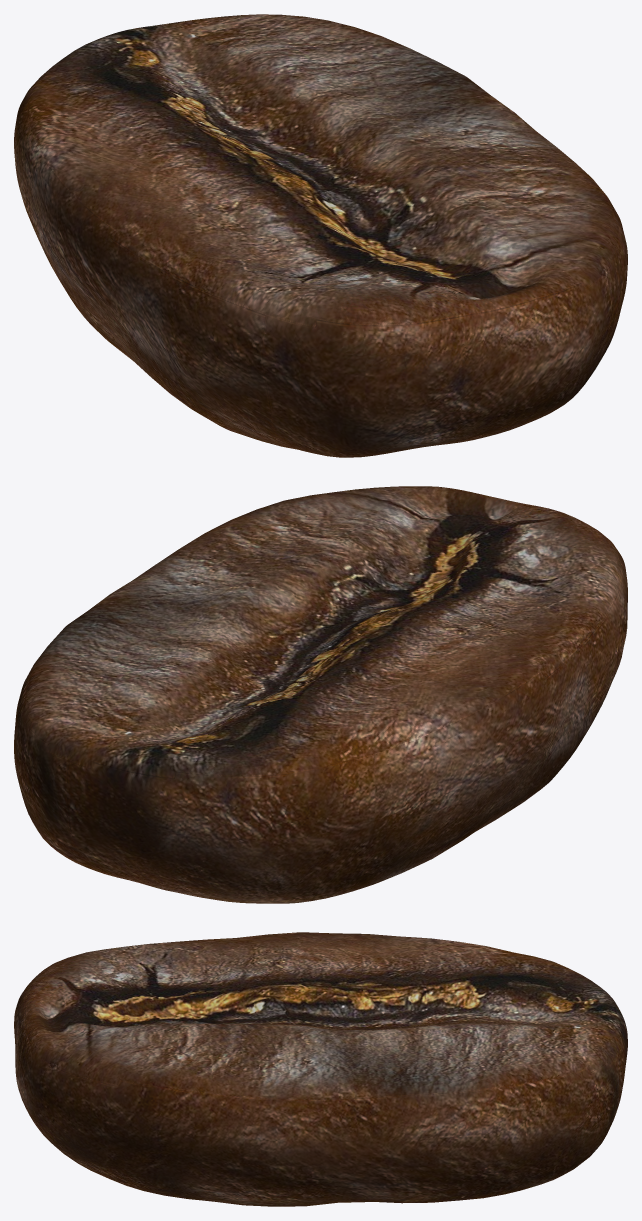
Rendered from cafe-v1.glb.
The picture shows the model from 3 angles, top to bottom: view 1: azimuth 30°, elevation 25°; view 2: azimuth 150°, elevation 25°; view 3: azimuth 270°, elevation 25°; orthographic projection. The views are drawn at different scales.
Visible parts, largest first — view 1: 3.Bean; view 2: 3.Bean; view 3: 3.Bean.
Part boxes in pixels (box(x1,y1,x2,y2)): 3.Bean: box(14, 14, 627, 457); 3.Bean: box(14, 486, 627, 903); 3.Bean: box(14, 932, 627, 1206).
Bounding box in the file's own units: 0.3233 × 0.1529 × 0.4899.
1 material, 1 textured.
